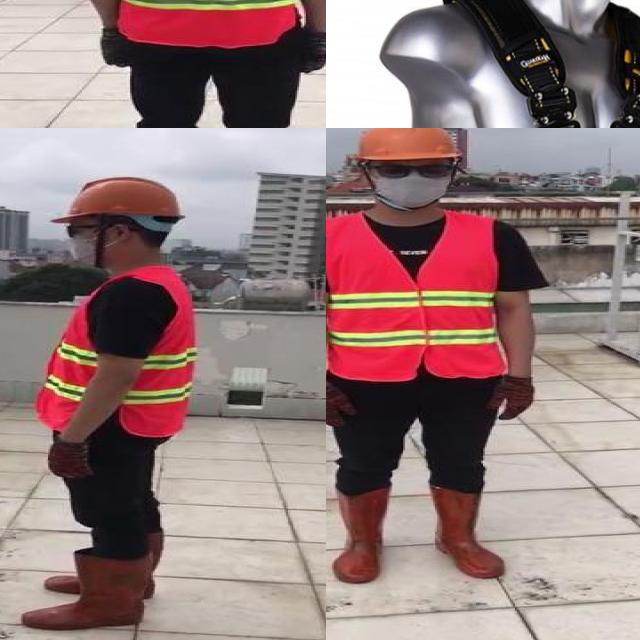boots: (20, 553, 151, 632), (43, 527, 165, 597), (430, 486, 502, 577), (332, 491, 389, 588)
face_mask: (365, 156, 452, 204), (56, 219, 124, 266)
glasses: (367, 158, 451, 184)
hand_glove: (492, 377, 538, 420), (48, 440, 92, 478), (326, 383, 357, 428), (100, 29, 134, 69), (301, 30, 326, 73)
head_helmet: (60, 174, 186, 223), (348, 128, 473, 166)
person: (326, 128, 566, 589), (0, 170, 215, 638), (59, 0, 326, 128)
vest: (326, 214, 502, 378), (34, 267, 195, 439), (96, 0, 306, 47)
